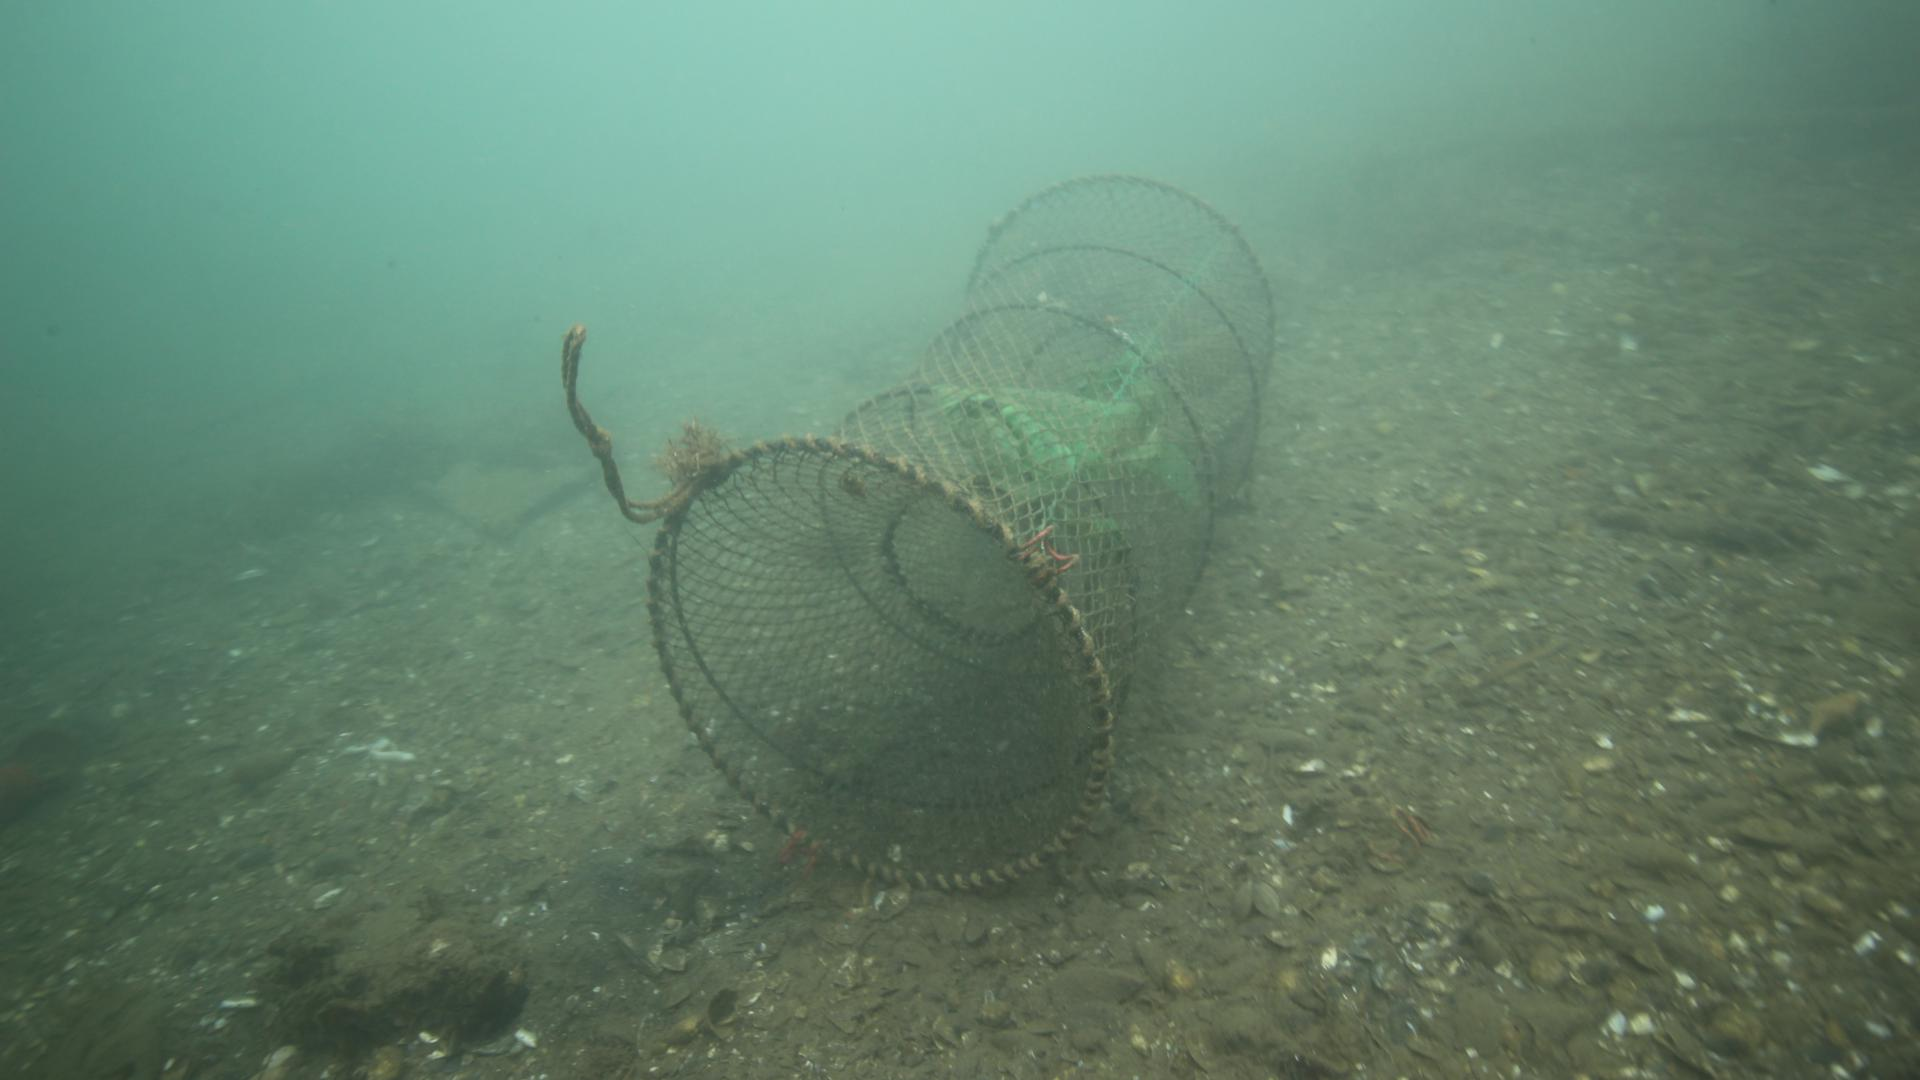bundle of ropes: (558, 320, 691, 525)
spring fish trap: (644, 173, 1279, 885)
